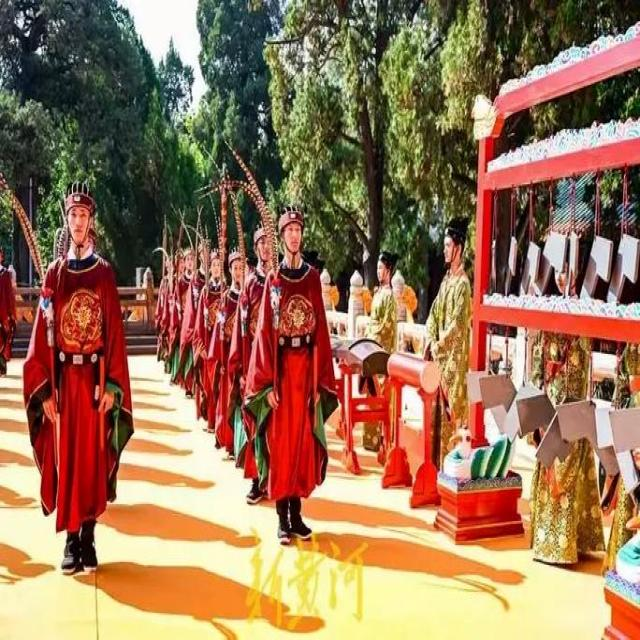Reeves-s Pheasant: (196, 143, 279, 268), (0, 173, 44, 275)
